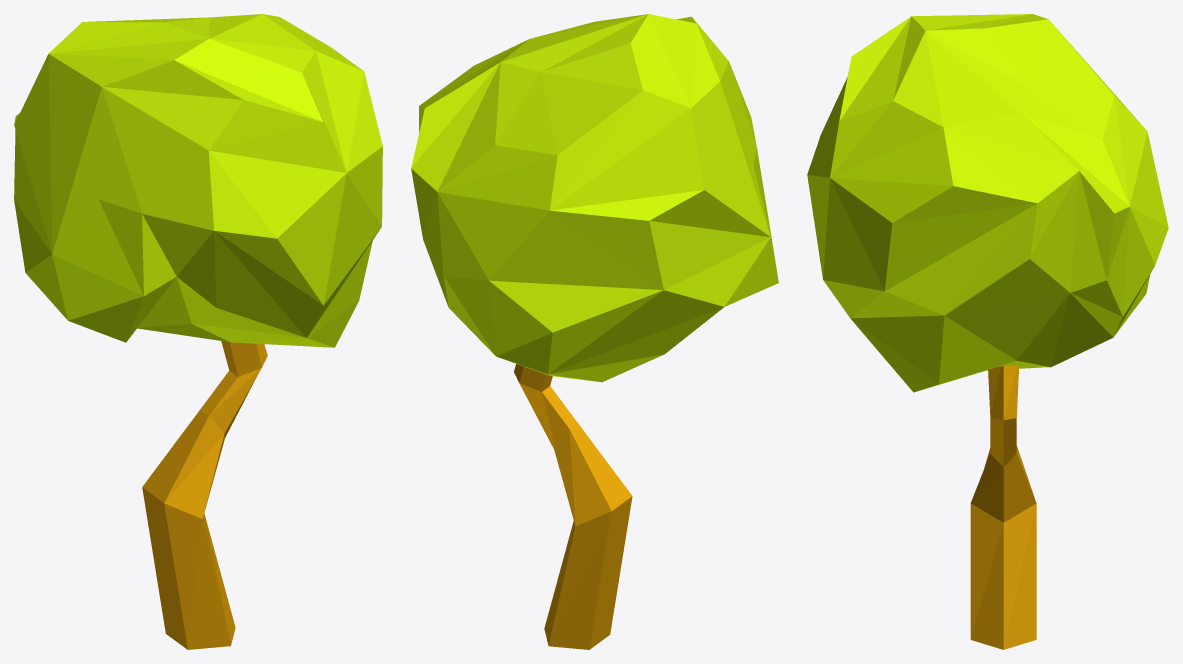
The model's file is Chotu.fbx.
3 views of the same model, side by side, from view 1: azimuth 30°, elevation 25°; view 2: azimuth 150°, elevation 25°; view 3: azimuth 270°, elevation 25° (orthographic). The views are drawn at different scales.
Parts seen in each view (by area): view 1: Hedra001.001, Cylinder00.001; view 2: Hedra001.001, Cylinder00.001; view 3: Hedra001.001, Cylinder00.001.
Part boxes in pixels (<box>): Hedra001.001: <box>14,14,382,347</box>; Cylinder00.001: <box>142,341,267,649</box>; Hedra001.001: <box>411,14,778,382</box>; Cylinder00.001: <box>514,364,632,649</box>; Hedra001.001: <box>807,14,1168,392</box>; Cylinder00.001: <box>970,365,1036,649</box>.
Bounding box in the file's own units: 529 × 977 × 544.
